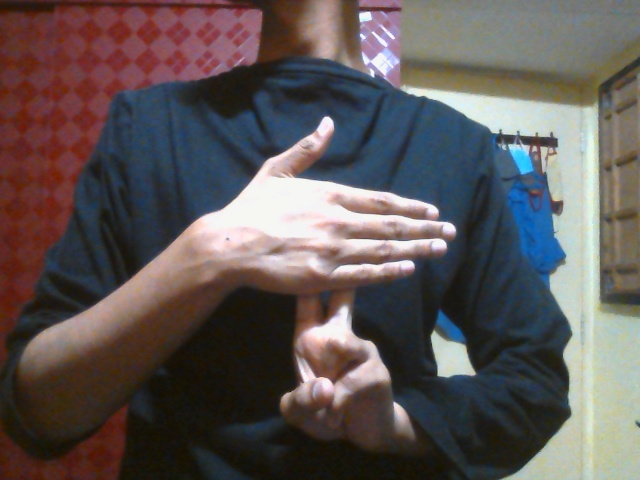N: (225, 115, 458, 457)
